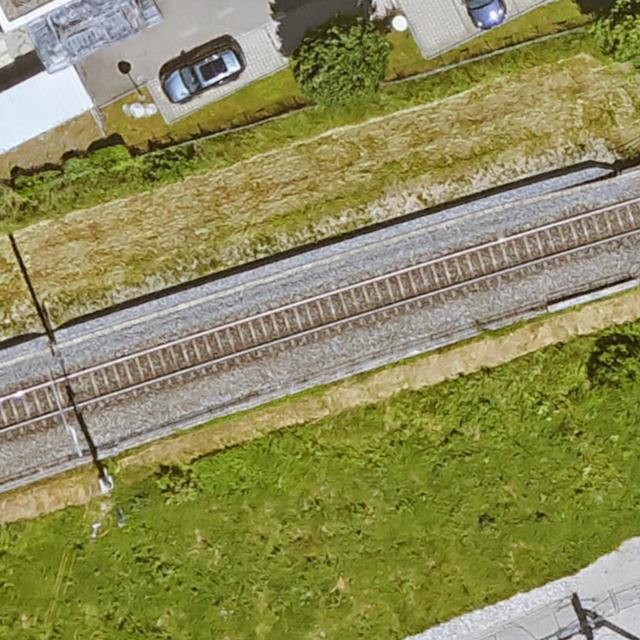tree: (292, 26, 387, 95), (591, 0, 640, 58), (595, 336, 639, 385)
